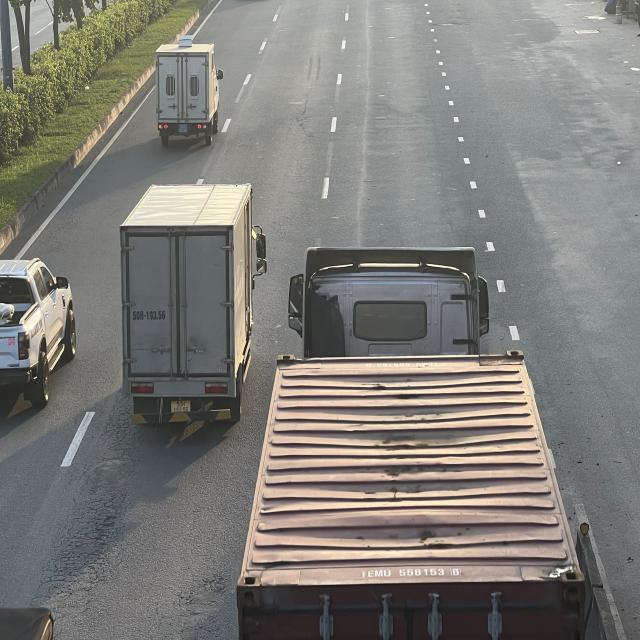car: (0, 258, 74, 419)
container: (231, 247, 600, 636)
truck: (115, 182, 264, 433), (156, 42, 226, 148)
